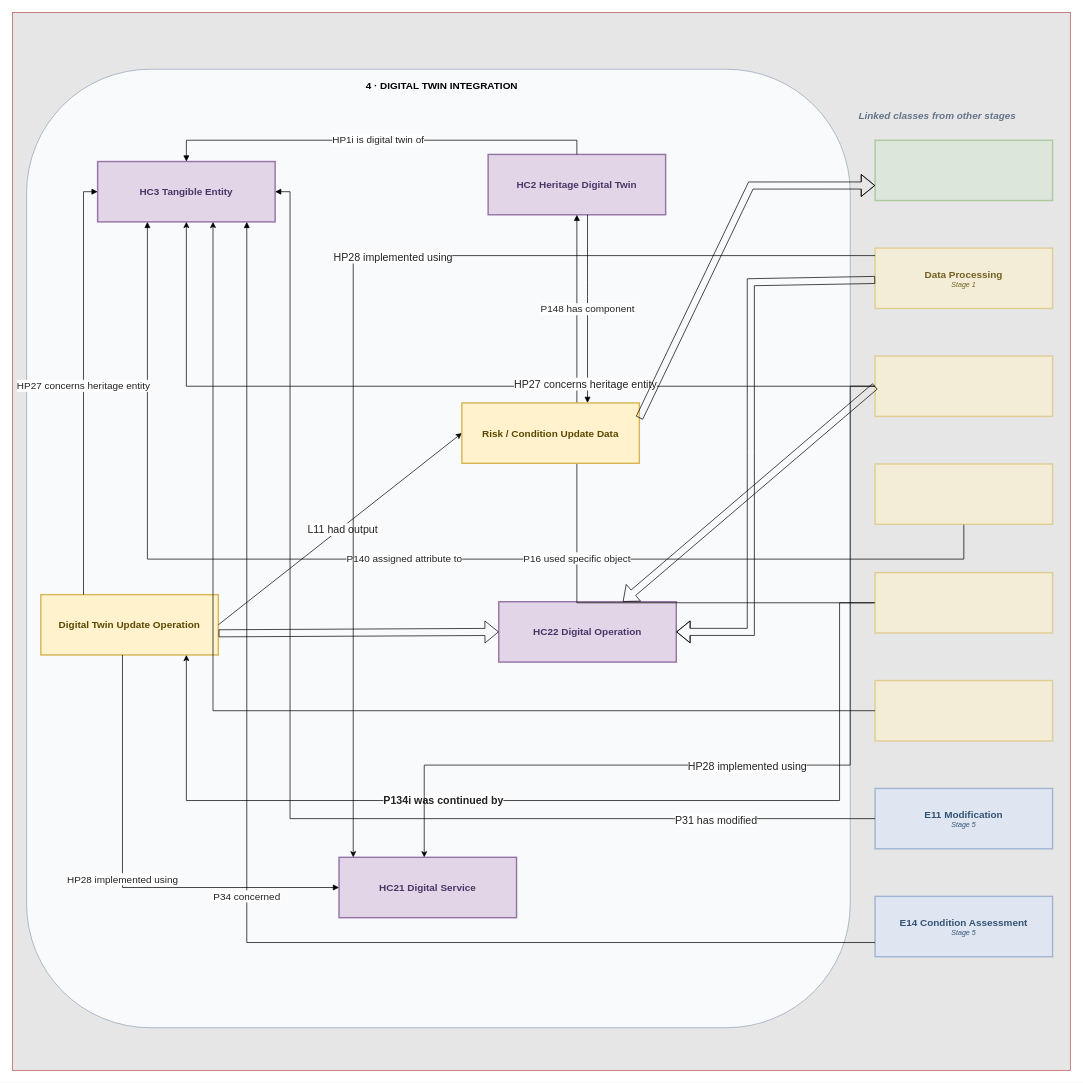
Some shapes in this 1083 by 1083 pixel diagram are drawn without their labels. The box of each missing label's shape, as (x1, y1, x2, y2) in pixels:
D9 Data Object Stage 1: (874, 139, 1053, 201)
Hazard Scenario Stage 5: (874, 679, 1053, 741)
Management Action Stage 3: (874, 572, 1053, 633)
Risk Assessment Stage 2: (874, 463, 1053, 525)
Risk Evaluation Stage 2: (874, 355, 1053, 417)
